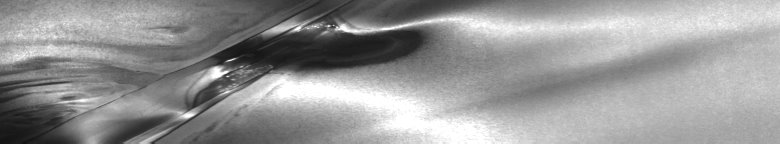ke: (4, 4, 488, 136)
